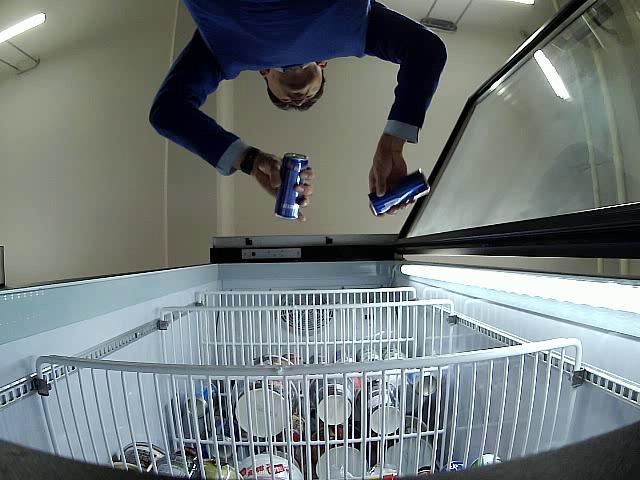00_hand: (260, 150, 314, 222), (369, 147, 416, 217)
16_hot6: (368, 168, 430, 217), (274, 153, 309, 220)
